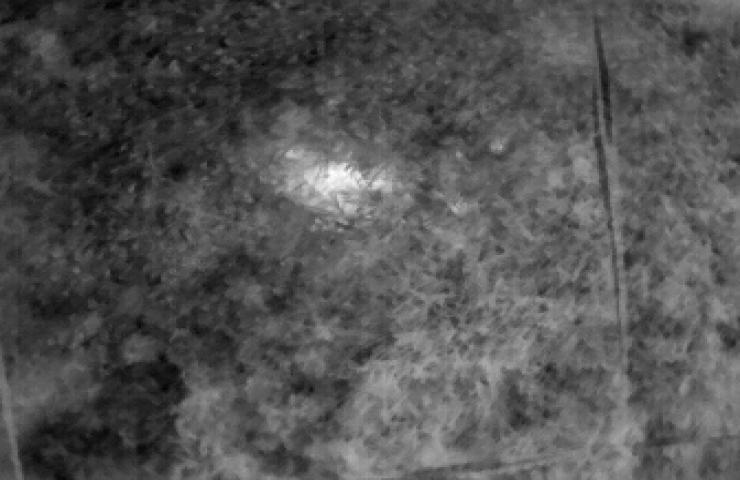landmines: (284, 157, 378, 208)
